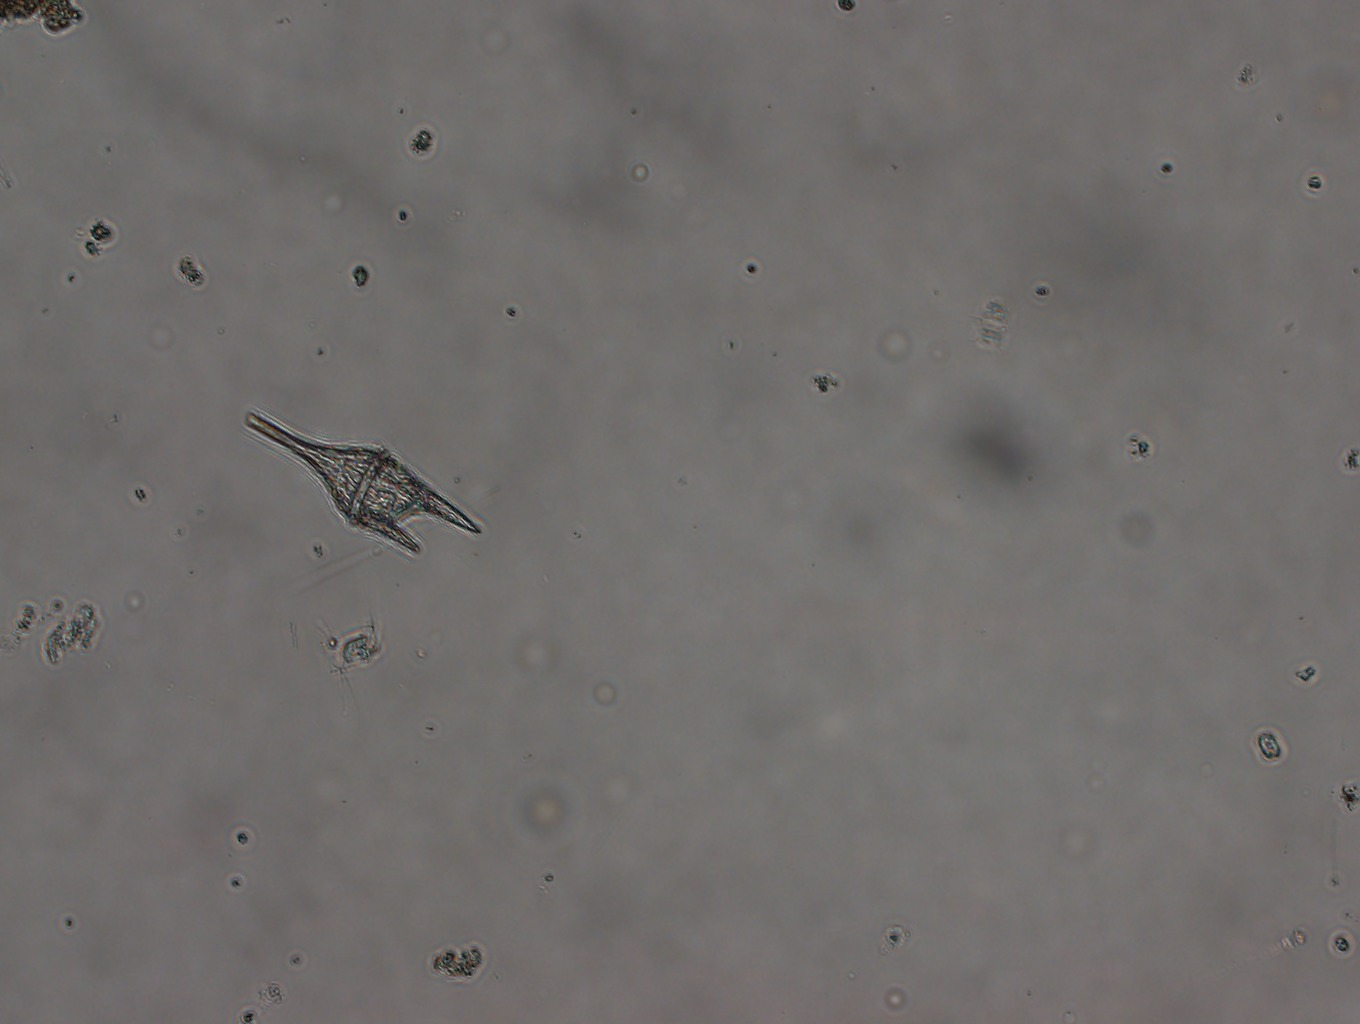ceratium furca: (237, 400, 490, 555)
